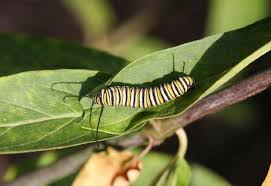Caterpillar: (92, 74, 194, 110)
